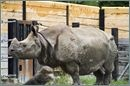rhino: (8, 24, 119, 86)
